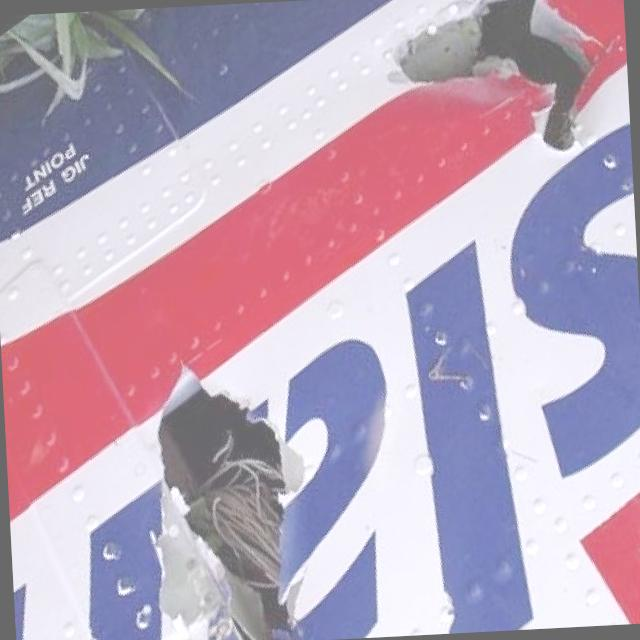crack: (141, 349, 311, 640), (377, 0, 604, 168)
